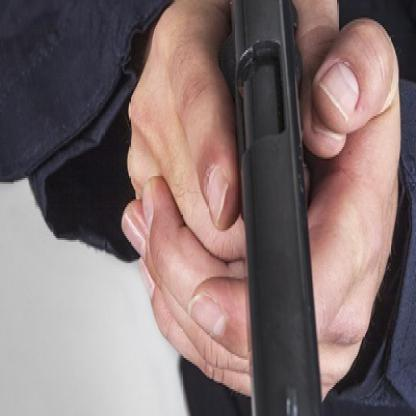gun: (218, 0, 336, 414)
